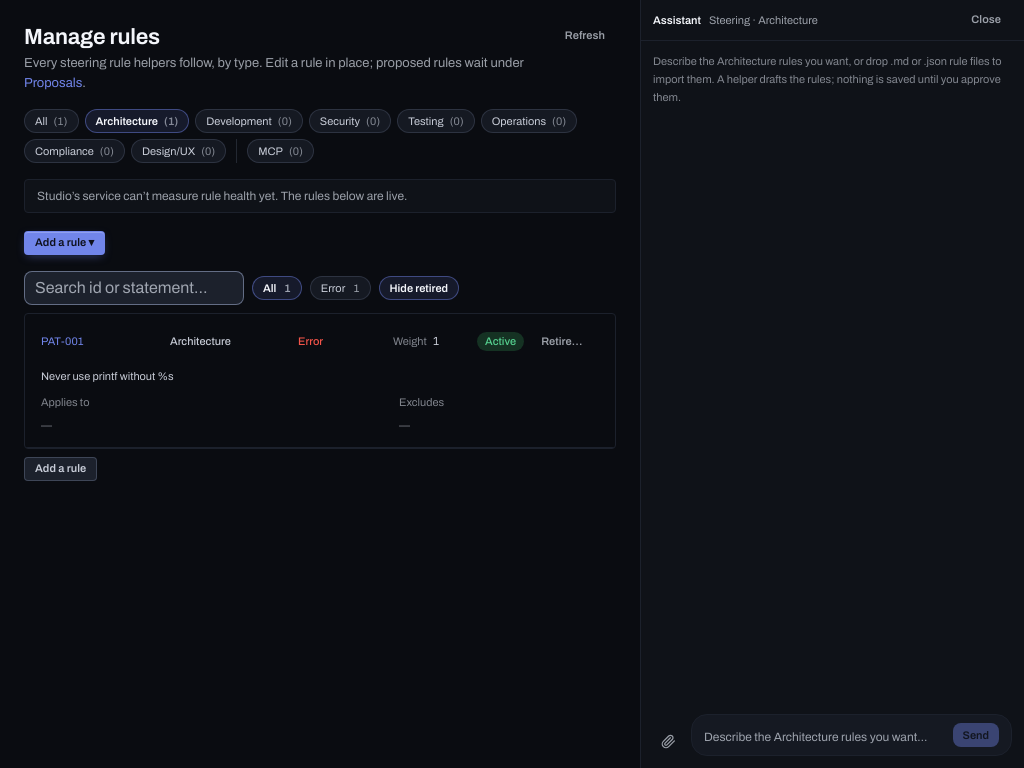
Test case: SteeringPage — the grid + the drawer › renders honest defaults in the drawer when the wire predates the unified fields
The width and height of the screenshot is (1024, 768).
Click the button with test id "steering-grid-id": (92, 341) [35,329,149,353]
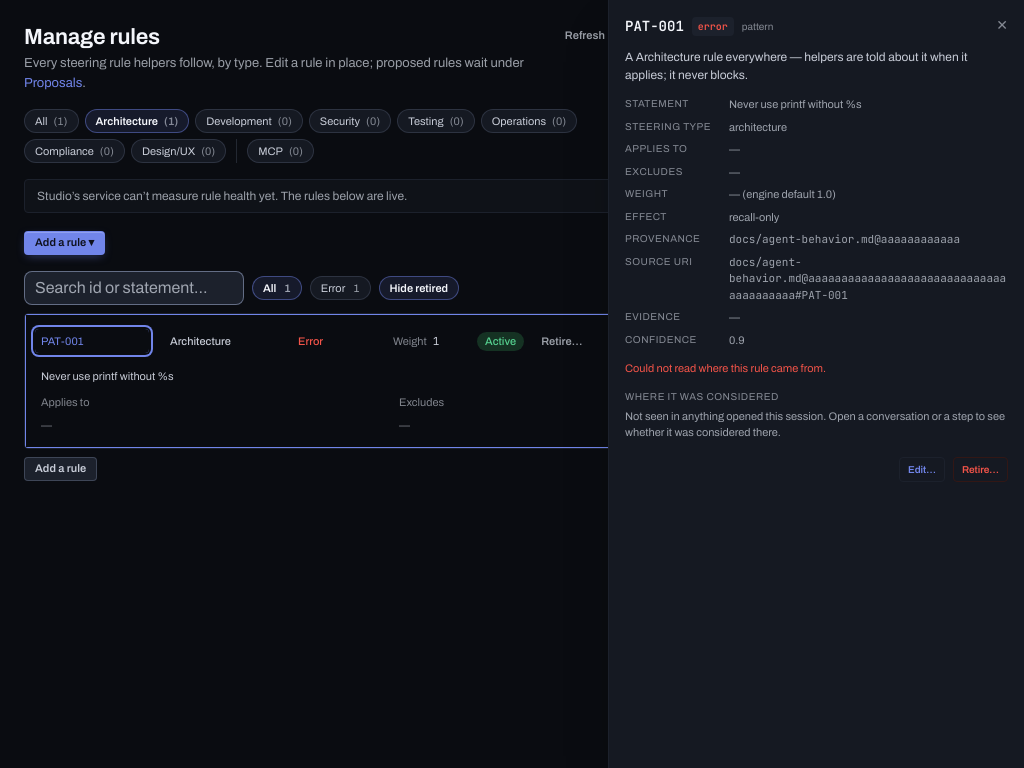
Check: the text with test id "steering-rule-applies" reads "—", box [729,143,740,155]
Check: the text with test id "steering-rule-excludes" reads "—", box [729,166,740,178]
Check: the element with test id "steering-rule-weight" shows "engine default 1.0", box [729,188,836,200]
